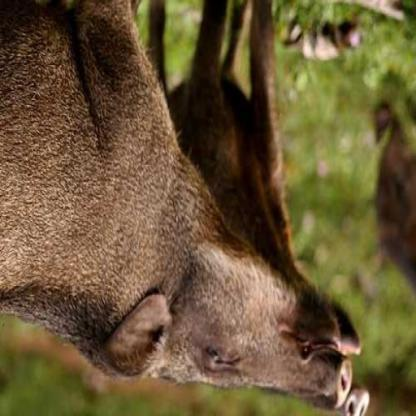boar: (4, 1, 369, 398)
